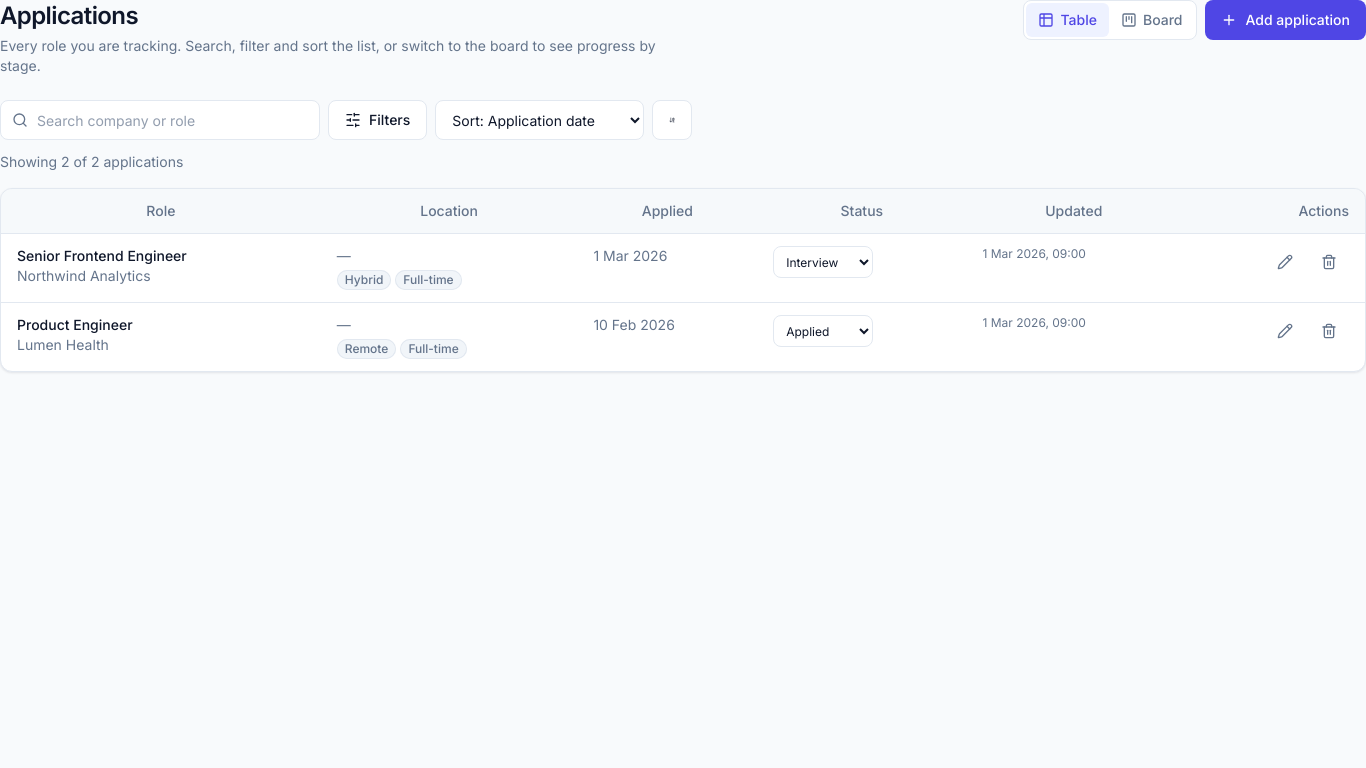
Test: ApplicationsPage — creating › adds an application and shows it in the list
This screenshot has width=1366, height=768.
Expected: the text "Showing 2 of 2 applications" is shown, [0, 153, 183, 170]
Click the button "Add application".
click(1286, 20)  # box [1206, 0, 1365, 40]
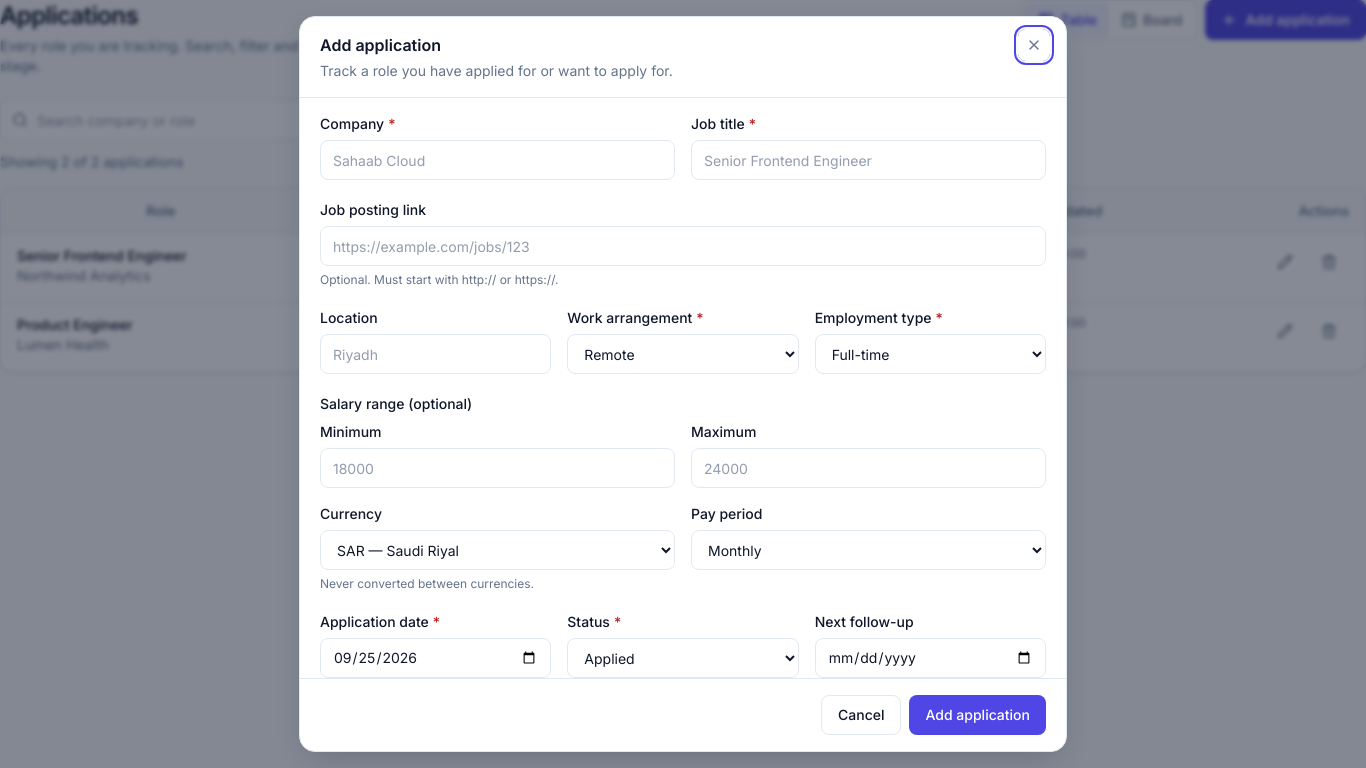
Type "Verdant Labs" into the field labelled "Company*".
click(498, 160); type("Verdant Labs")  # box [320, 140, 675, 180]
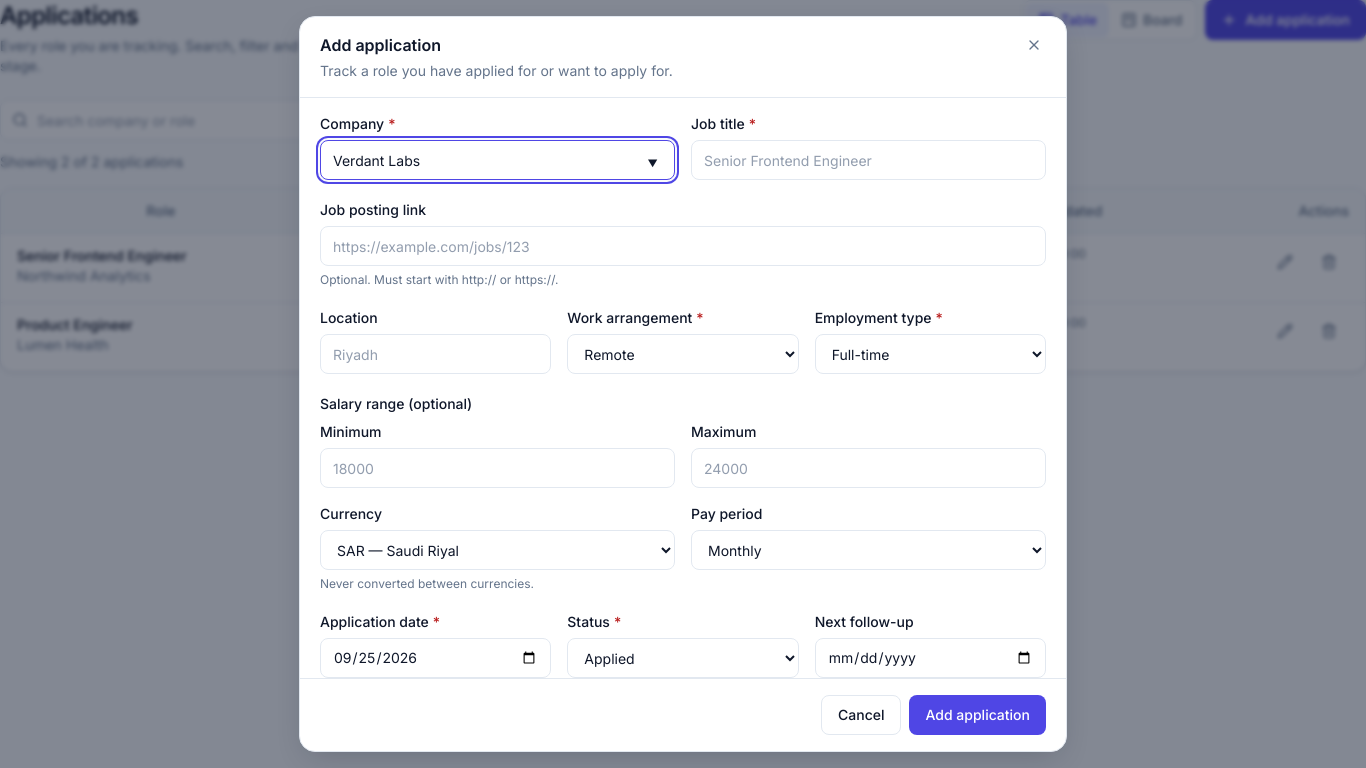
Type "React Engineer" into the field labelled "Job title*".
click(868, 160); type("React Engineer")  # box [691, 140, 1046, 180]
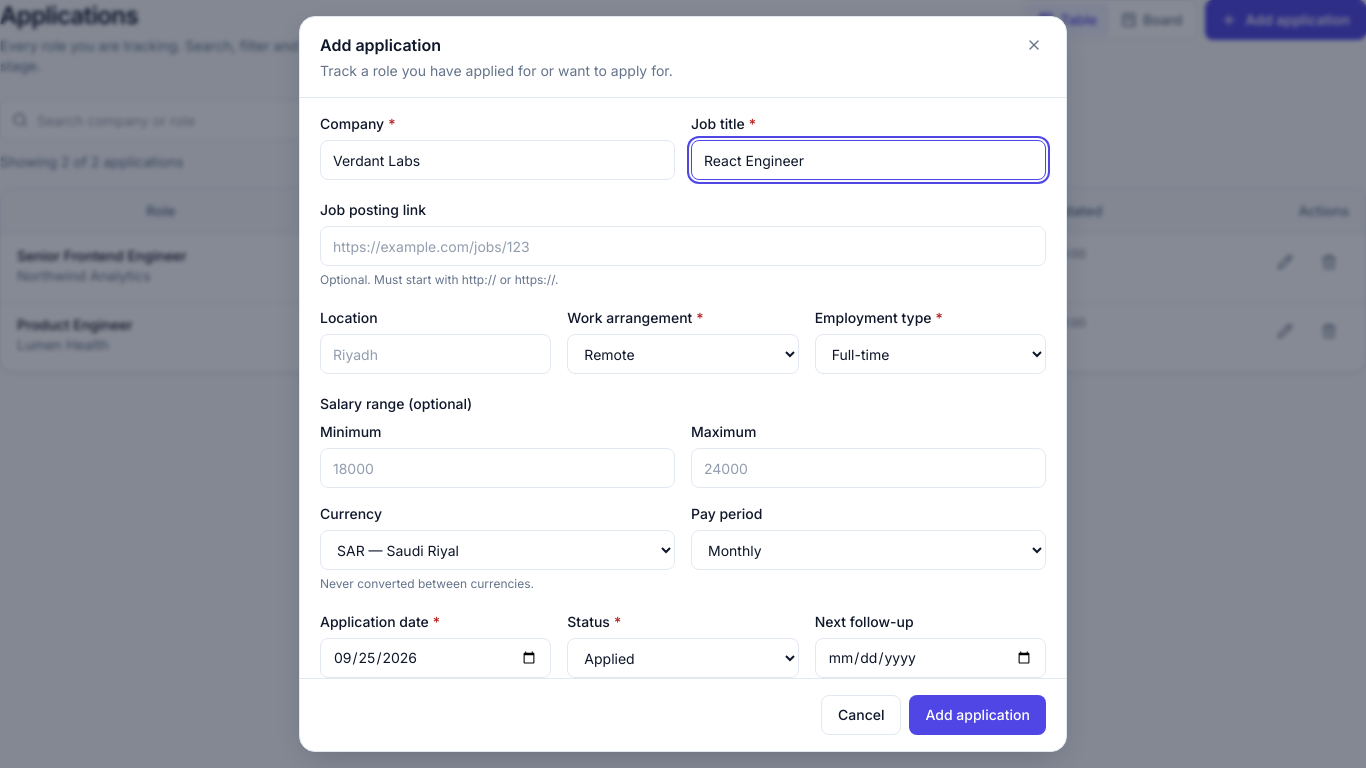
Click the button "Add application".
click(978, 715)  # box [910, 695, 1046, 735]
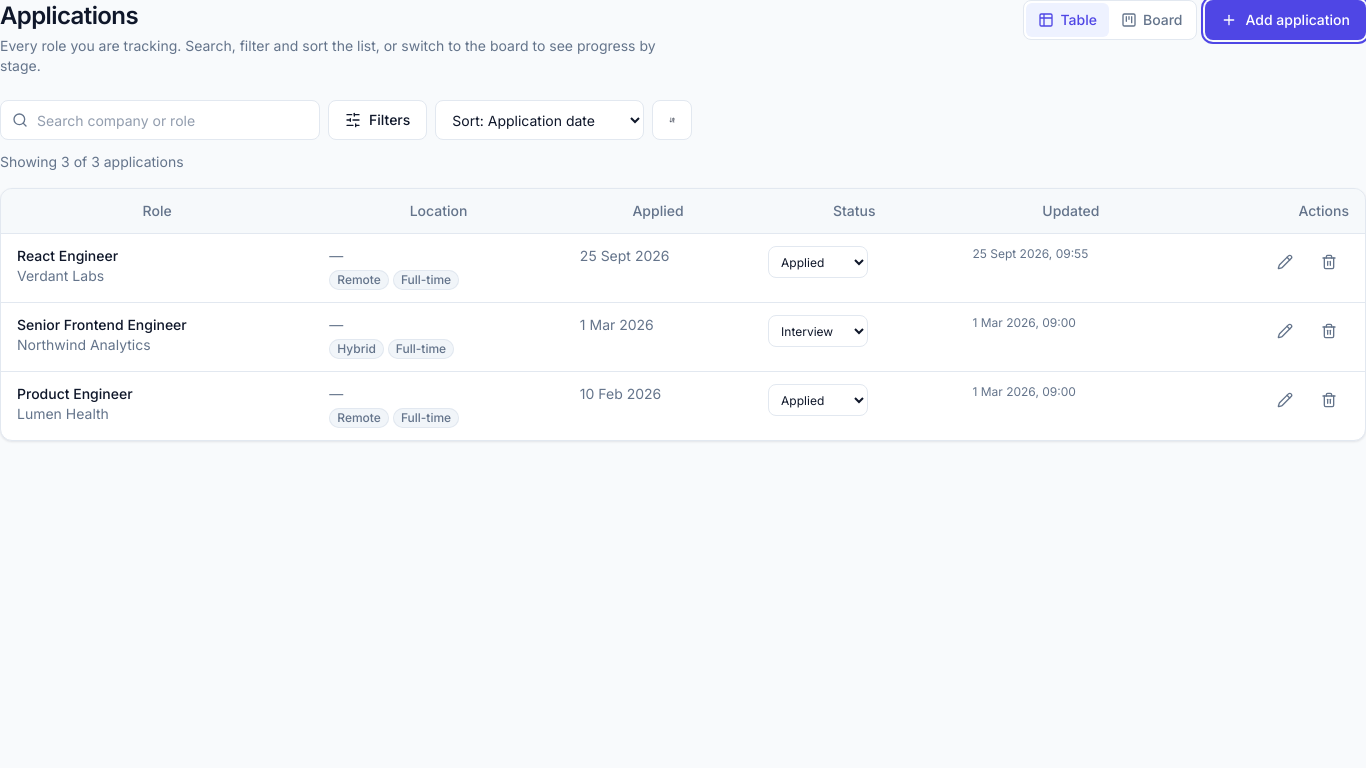
Expected: the dialog is gone
Expected: the link "React Engineer" is shown, [17, 247, 118, 264]
Expected: the text "Showing 3 of 3 applications" is shown, [0, 153, 184, 170]
